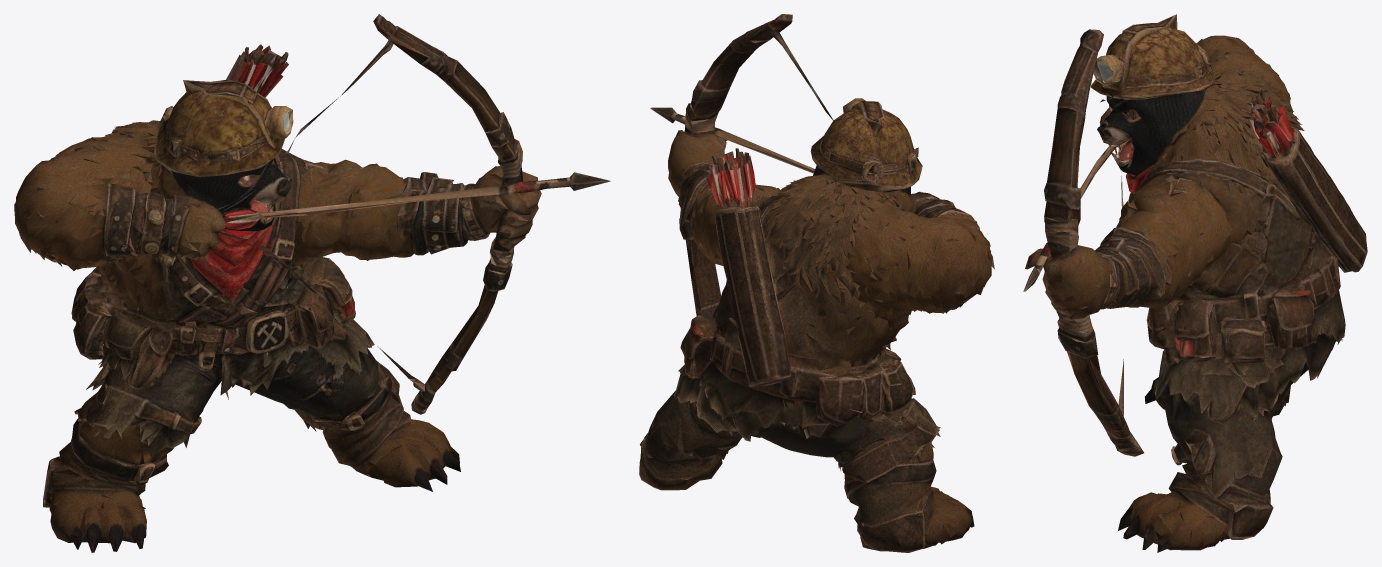
The model's file is bear_archer.glb.
3 renders of one model, left to right at view 1: azimuth 30°, elevation 25°; view 2: azimuth 150°, elevation 25°; view 3: azimuth 270°, elevation 25°, orthographic. The views are drawn at different scales.
Parts seen in each view (by area): view 1: Mesh_0; view 2: Mesh_0; view 3: Mesh_0.
Boxes of the visible parts, box(x1,y1,x2,y2) form: Mesh_0: box(14, 14, 610, 552); Mesh_0: box(639, 14, 994, 552); Mesh_0: box(1023, 14, 1367, 552).
Size of the model in its own units: 1.84 by 1.8 by 1.19.
Materials: 1 (1 with a texture image).
